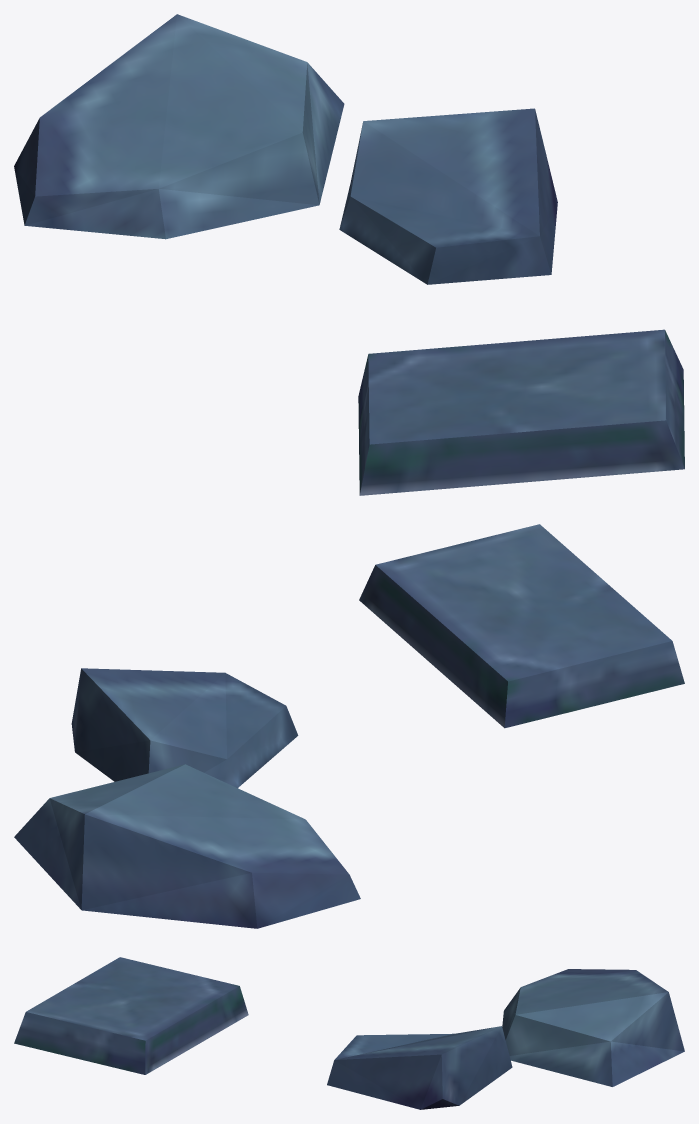
The model's file is Area09_25.fbx.
3 renders of one model, top to bottom at view 1: azimuth 30°, elevation 25°; view 2: azimuth 150°, elevation 25°; view 3: azimuth 270°, elevation 25°, orthographic. The views are drawn at different scales.
Parts seen in each view (by area): view 1: Area09_25; view 2: Area09_25; view 3: Area09_25.
Part boxes in pixels (x1,y1,x2,y2): Area09_25: (14,14,684,495); Area09_25: (14,524,684,928); Area09_25: (14,957,684,1109).
Bounding box in the file's own units: 216 × 50.41 × 446.
Materials: 1 (1 with a texture image).
